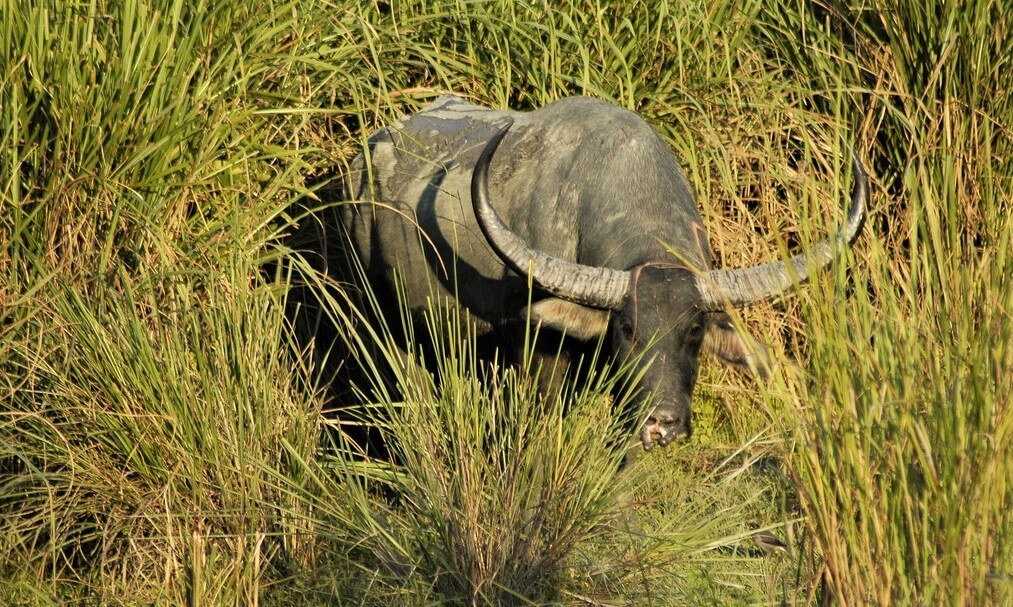buffalo: (308, 82, 863, 487)
